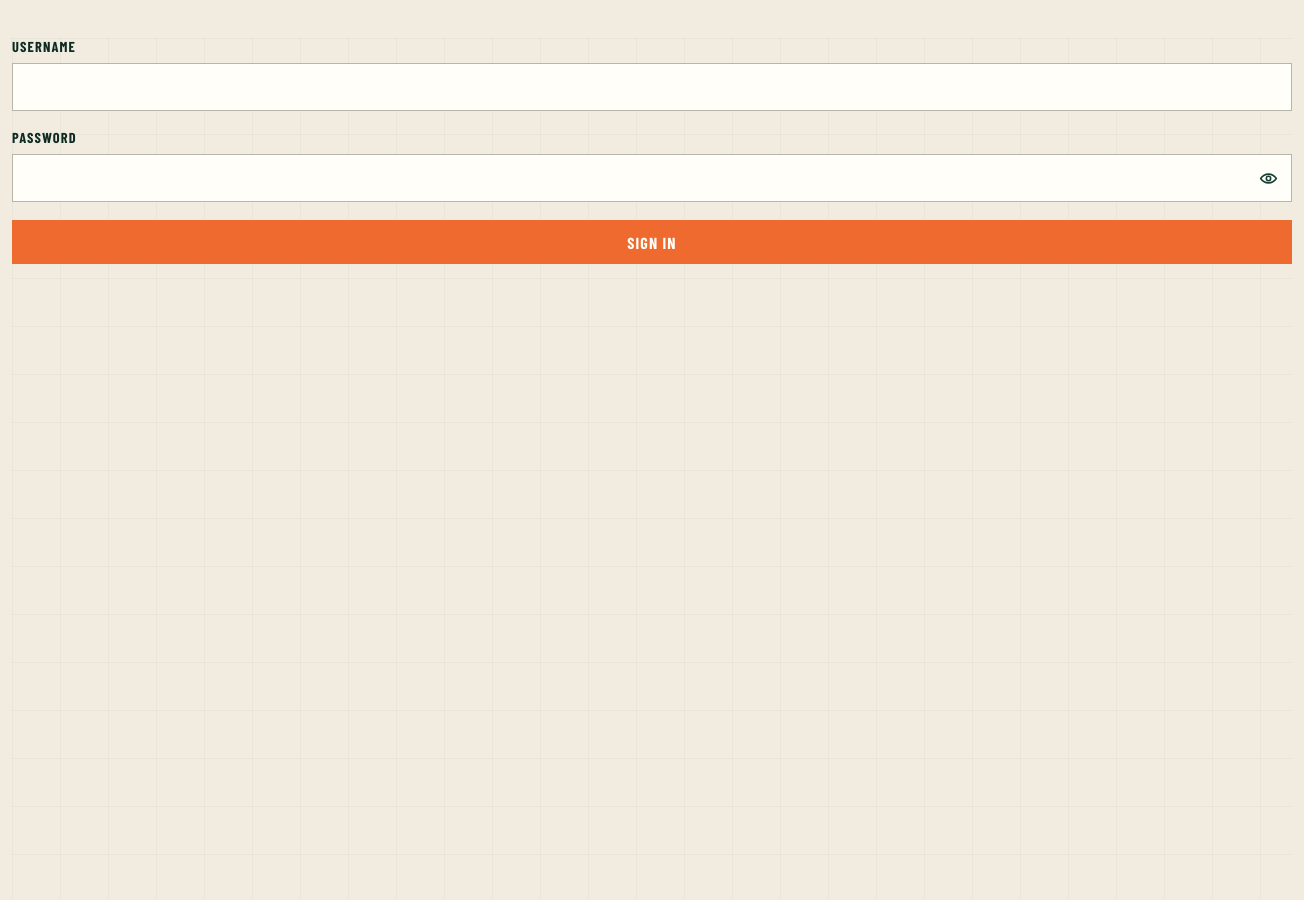
it: password visibility › toggles the login password without changing its value
This screenshot has width=1304, height=900.
Type "private-password" into the password field labelled "Password". click: [652, 178]
box: [12,154,1292,202]
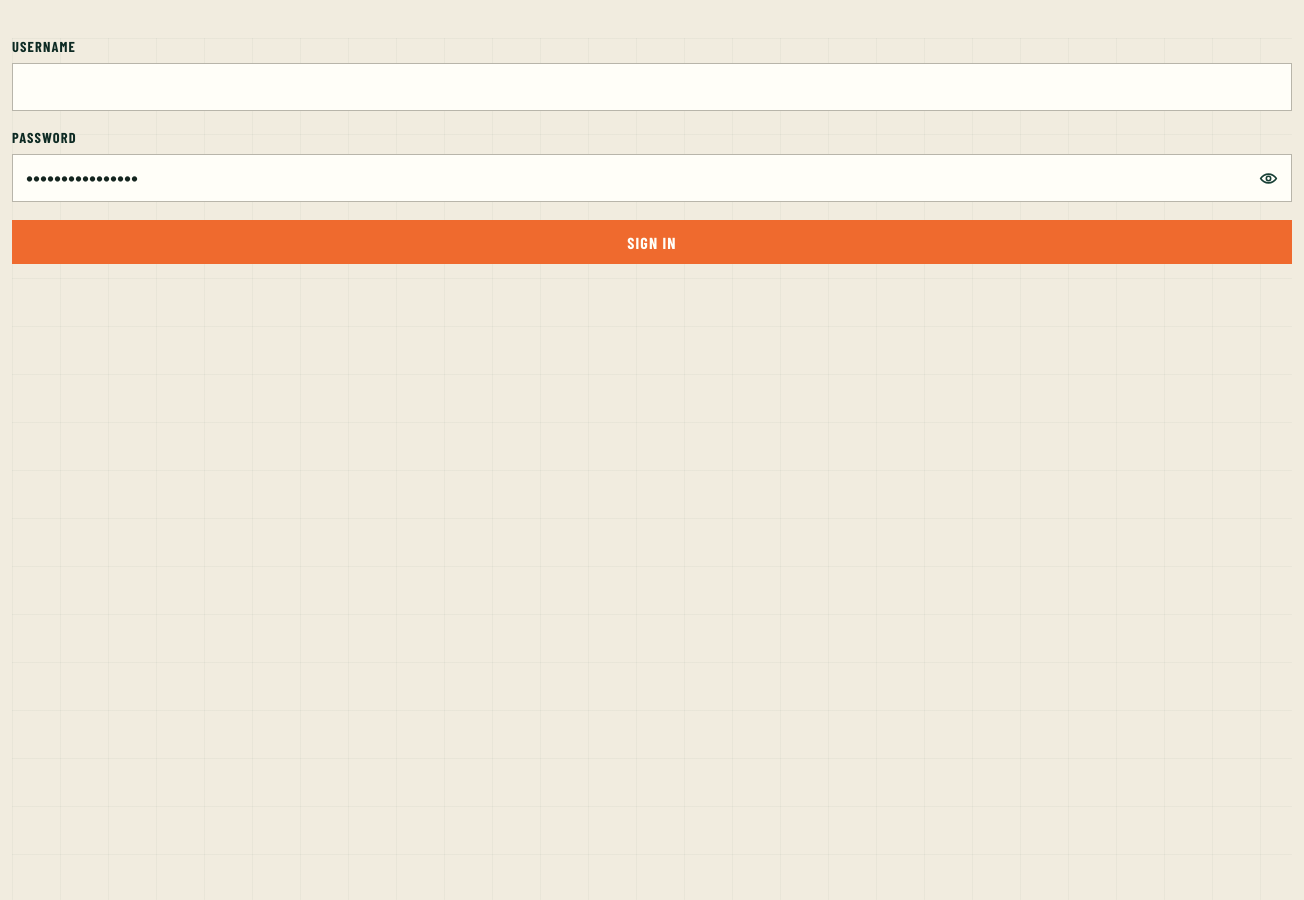
Click the button named "Show password". click: [1268, 178]
box: [1245,155,1291,201]
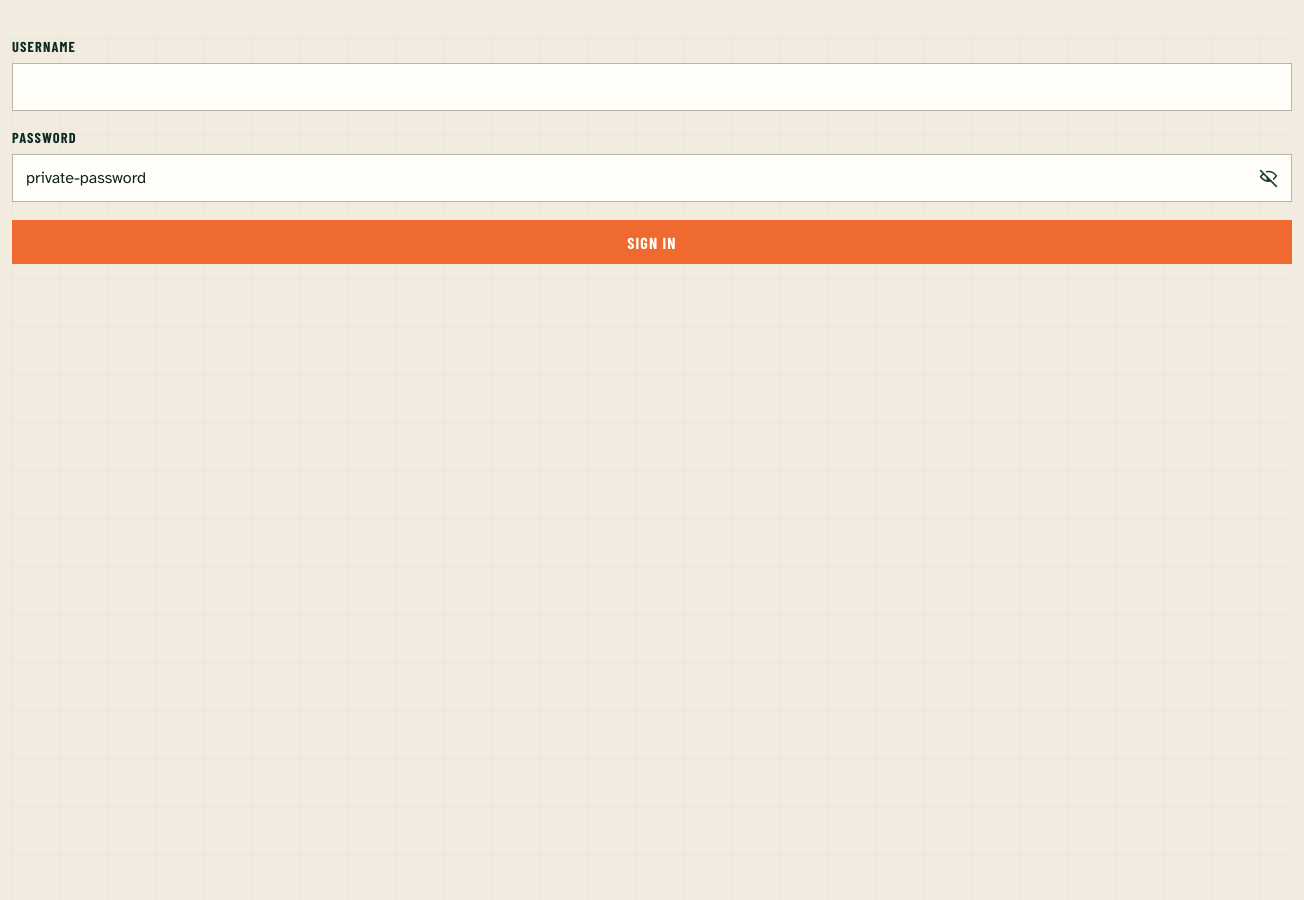
Now the field labelled "Password" shows its text, box [12,154,1292,202]
Now the button named "Hide password" is shown, box [1245,155,1291,201]
